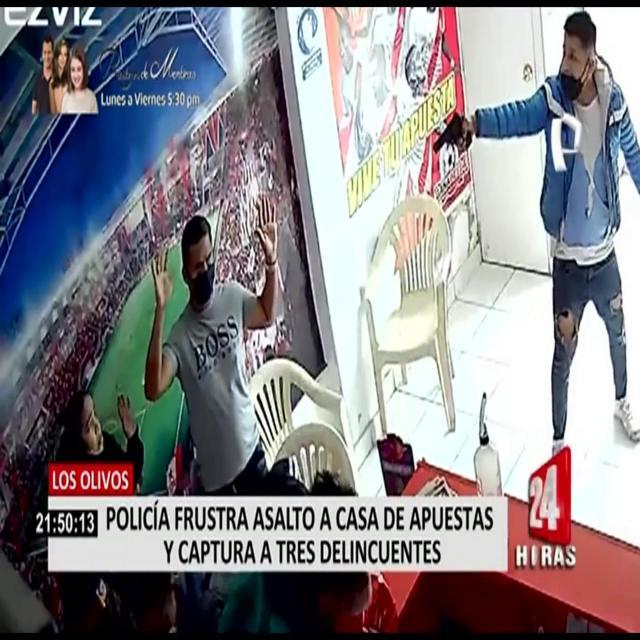weapon: (424, 97, 482, 174)
